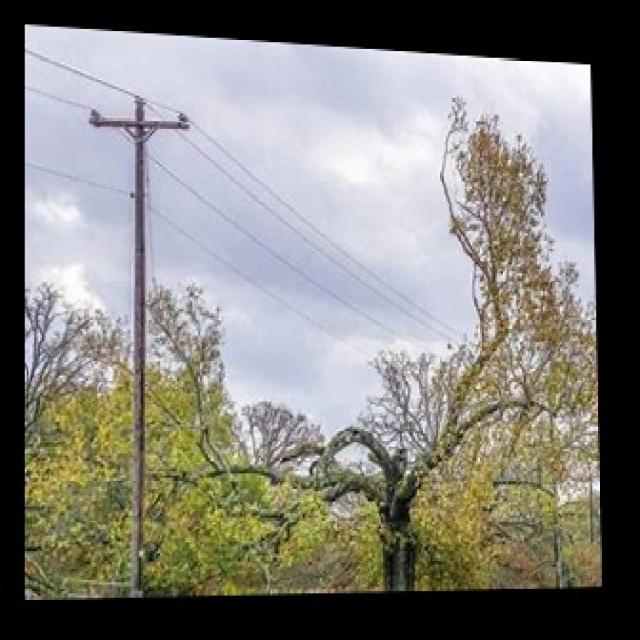utility poles: (82, 81, 204, 586)
